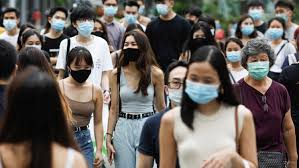with-mask: (184, 45, 225, 114), (69, 3, 103, 43), (161, 62, 191, 107), (246, 39, 275, 85), (66, 44, 97, 86), (121, 28, 151, 67), (45, 6, 71, 36), (222, 37, 245, 67), (271, 2, 299, 25), (21, 31, 43, 56), (151, 1, 182, 18), (1, 8, 22, 32), (268, 17, 288, 42), (246, 1, 267, 23), (102, 1, 120, 23), (123, 3, 140, 26), (237, 16, 255, 36)
